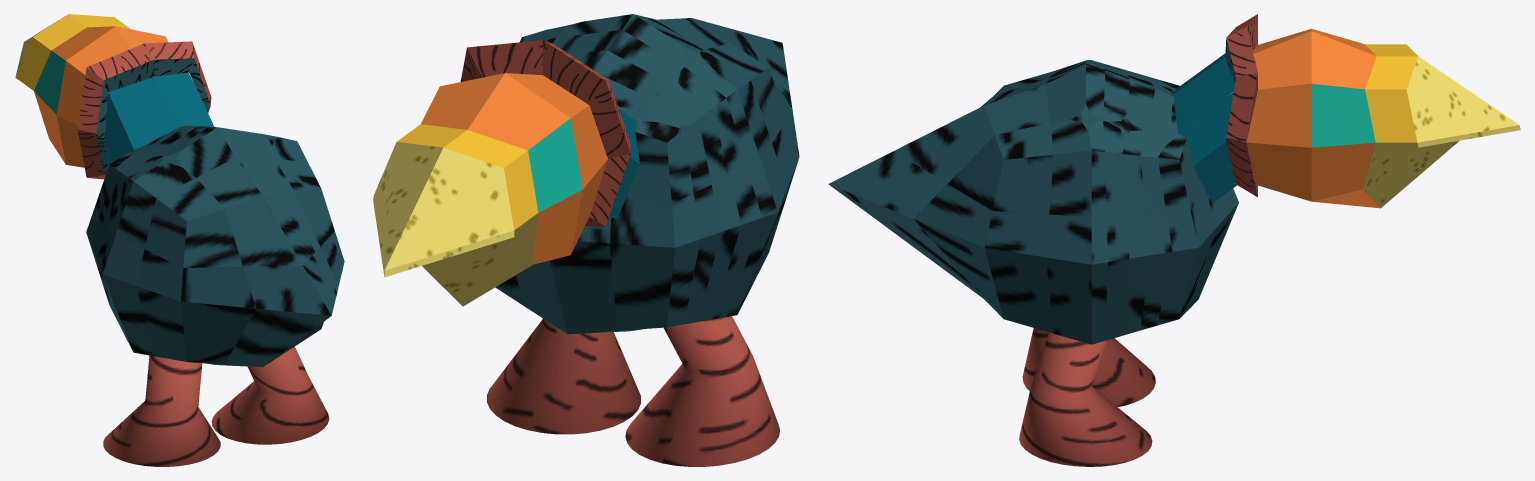
Rendered from raptor.glb.
3 renders of one model, left to right at view 1: azimuth 30°, elevation 25°; view 2: azimuth 150°, elevation 25°; view 3: azimuth 270°, elevation 25°, orthographic. The views are drawn at different scales.
Parts seen in each view (by area): view 1: Cube.001, Cube, Cylinder.001, Cylinder; view 2: Cube.001, Cube, Cylinder.001, Cylinder; view 3: Cube.001, Cube, Cylinder, Cylinder.001.
Part boxes in pixels (x1=…): Cube.001: x1=86, y1=125, x2=344, y2=367; Cube: x1=15, y1=14, x2=214, y2=179; Cylinder.001: x1=103, y1=355, x2=220, y2=466; Cylinder: x1=211, y1=346, x2=329, y2=444; Cube.001: x1=495, y1=14, x2=799, y2=334; Cube: x1=373, y1=40, x2=639, y2=306; Cylinder.001: x1=625, y1=316, x2=779, y2=466; Cylinder: x1=487, y1=318, x2=640, y2=434; Cube.001: x1=828, y1=60, x2=1238, y2=344; Cube: x1=1172, y1=14, x2=1520, y2=208; Cylinder: x1=1019, y1=332, x2=1152, y2=466; Cylinder.001: x1=1022, y1=328, x2=1155, y2=406.
Bounding box in the file's own units: 5.41 × 7.8 × 12.7.
4 materials, 4 textured.
